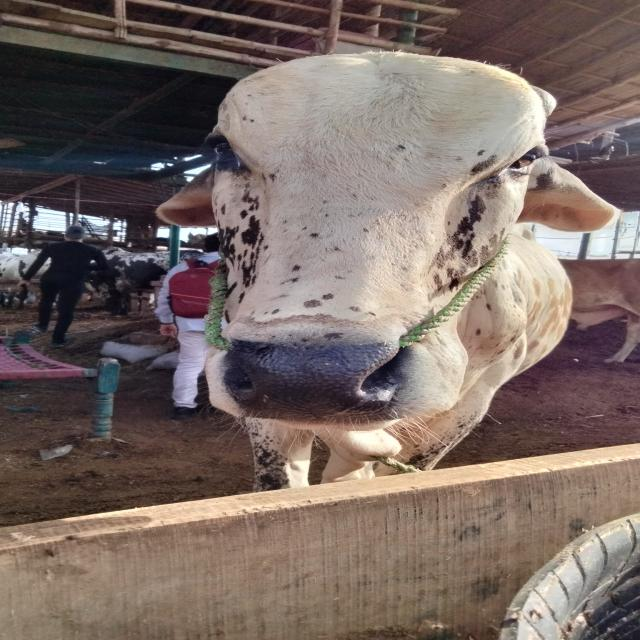muzzles: (212, 325, 423, 431)
